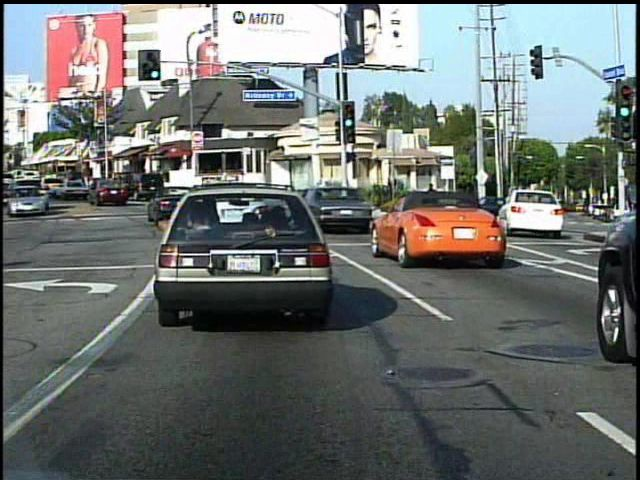person: (423, 182, 440, 220)
